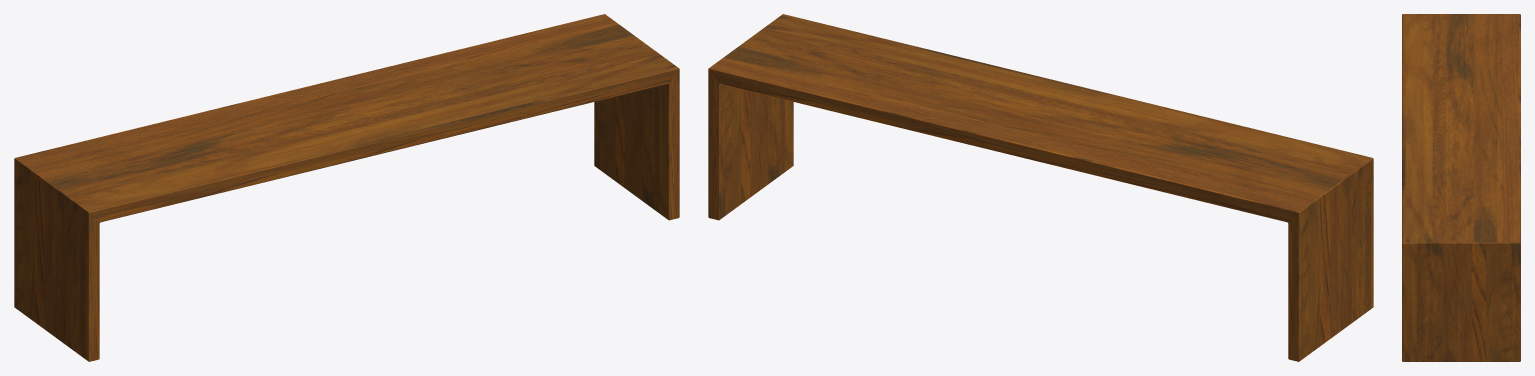
Rendered from eaton.glb.
3 views of the same model, side by side, from view 1: azimuth 30°, elevation 25°; view 2: azimuth 150°, elevation 25°; view 3: azimuth 270°, elevation 25° (orthographic). The views are drawn at different scales.
Parts seen in each view (by area): view 1: eaton; view 2: eaton; view 3: eaton.
Boxes of the visible parts, left/top/right/bottom form: eaton: left=14, top=14, right=679, bottom=361; eaton: left=708, top=14, right=1373, bottom=361; eaton: left=1402, top=14, right=1520, bottom=361.
Size of the model in its own units: 1.85 by 0.4492 by 0.4056.
Materials: 1 (1 with a texture image).
